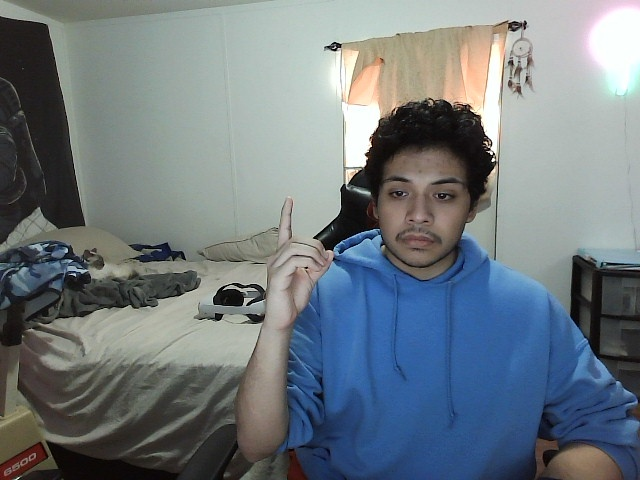D: (264, 192, 337, 333)
